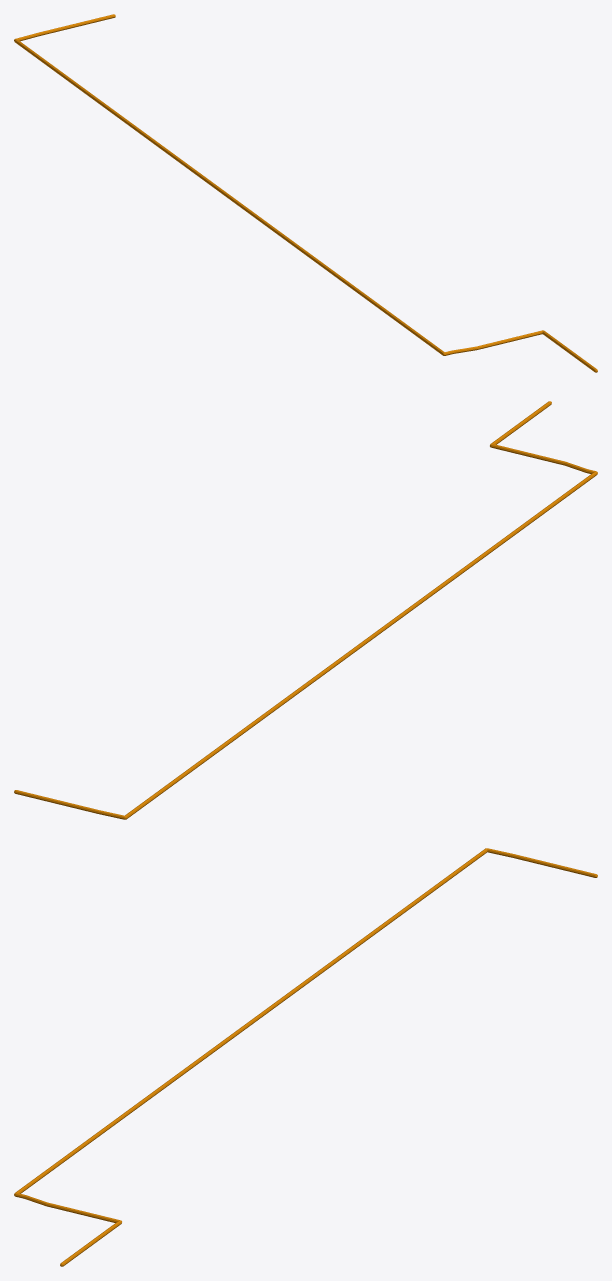
3 views of the same model, one above another, from view 1: azimuth 30°, elevation 25°; view 2: azimuth 150°, elevation 25°; view 3: azimuth 330°, elevation 25° (orthographic). The views are drawn at different scales.
Size of the model in its own units: 612 by 20 by 5047.
